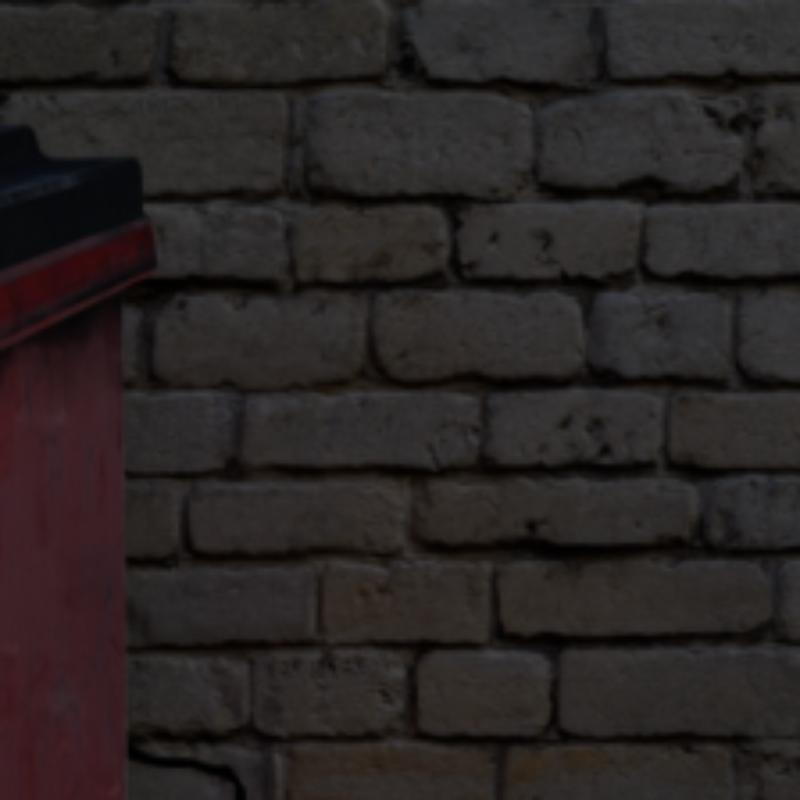pothole: (129, 743, 243, 796)
